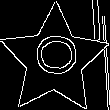O_W: (29, 38, 80, 83)
